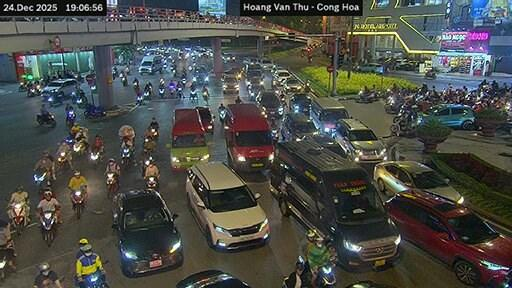motorbike: (390, 108, 416, 134), (313, 261, 335, 287), (39, 211, 54, 246), (314, 262, 335, 286), (10, 202, 25, 234), (0, 241, 12, 279), (83, 270, 108, 287), (32, 170, 50, 193), (106, 172, 118, 198), (70, 88, 86, 107), (140, 153, 153, 175), (73, 189, 83, 217), (84, 103, 105, 116), (89, 148, 102, 167), (355, 91, 377, 102), (384, 97, 400, 112), (35, 113, 56, 124), (57, 153, 69, 172), (73, 140, 85, 156), (121, 147, 131, 166), (49, 93, 63, 106), (66, 109, 74, 127), (27, 84, 38, 97), (146, 176, 156, 189), (218, 108, 226, 124), (167, 81, 175, 97), (77, 94, 86, 107), (271, 126, 278, 142), (189, 89, 197, 102), (144, 86, 152, 99), (135, 90, 143, 103), (281, 277, 291, 287), (423, 71, 435, 79), (149, 127, 157, 139), (202, 90, 208, 104), (120, 73, 127, 85), (176, 86, 182, 98), (18, 81, 26, 90), (133, 81, 140, 91), (112, 66, 117, 79), (143, 90, 150, 99), (297, 256, 304, 264), (179, 76, 185, 85), (307, 55, 312, 63), (124, 66, 129, 73), (159, 90, 163, 97), (76, 284, 80, 287), (159, 86, 163, 89), (304, 270, 309, 271)
